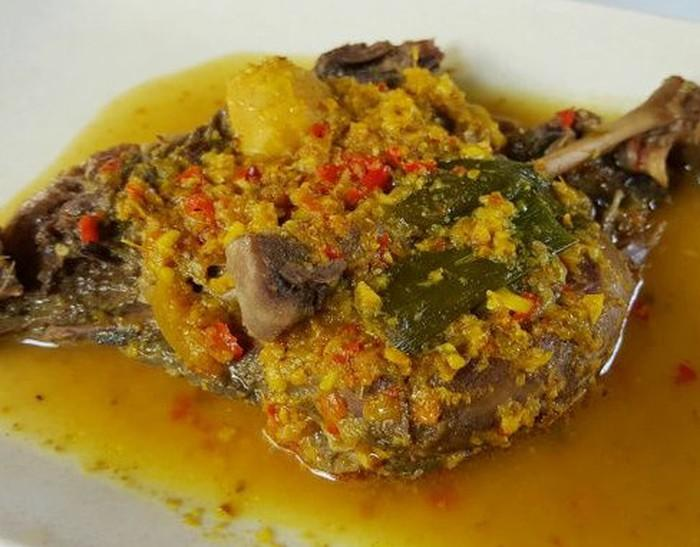ayam_betutu: (14, 41, 699, 479)
